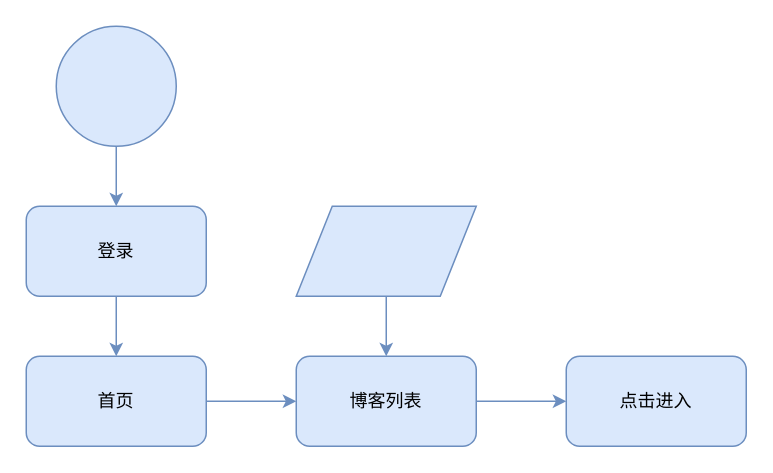
Some shapes in this 773 by 473 pixel diagram are drawn without their labels. Here are the shapes that lost their labels. From the top down, the centre of each, then its label:
the point at 115,85: 开始
the point at 385,250: 用户数据库
